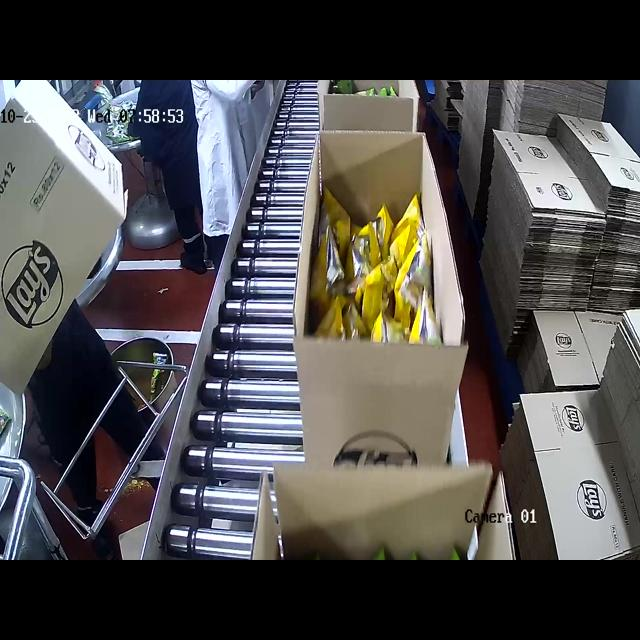salted: (307, 195, 428, 352)
